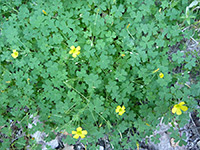oxalis: (9, 14, 169, 133)
